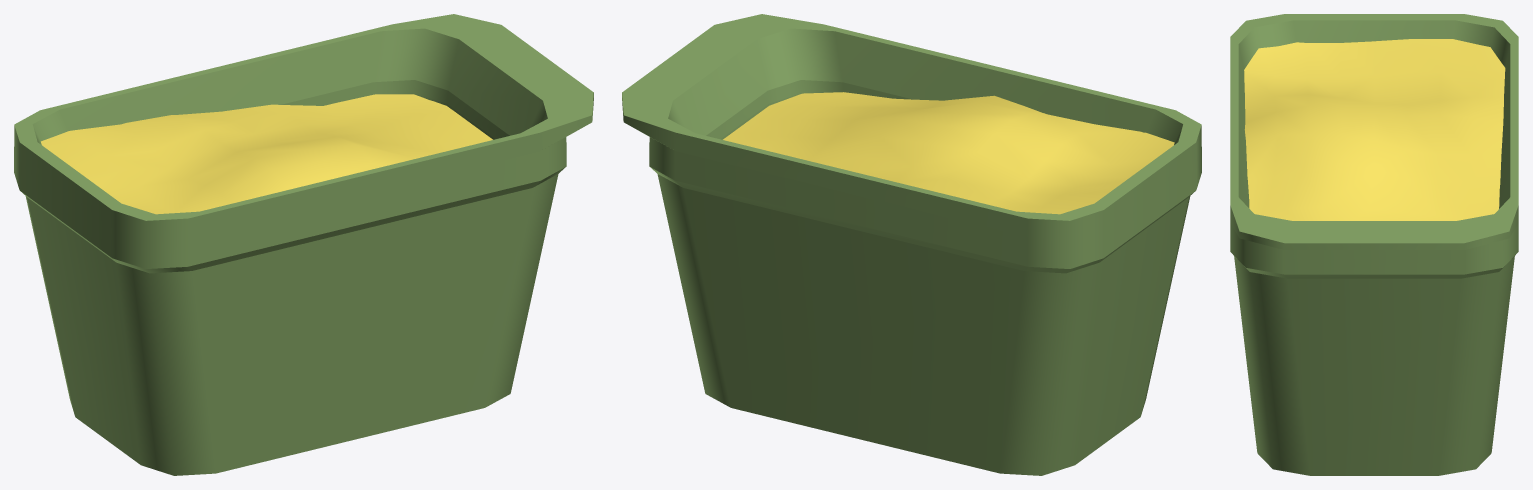
The model's file is Ice-cream-tub.fbx.
3 views of the same model, side by side, from view 1: azimuth 30°, elevation 25°; view 2: azimuth 150°, elevation 25°; view 3: azimuth 270°, elevation 25° (orthographic). The views are drawn at different scales.
Visible parts, largest first — view 1: pCube10, pPlane2; view 2: pCube10, pPlane2; view 3: pCube10, pPlane2.
Part boxes in pixels (x1,y1,x2,y2): pCube10: (14, 14, 593, 475); pPlane2: (41, 94, 492, 214); pCube10: (622, 14, 1201, 475); pPlane2: (723, 92, 1174, 214); pCube10: (1230, 14, 1518, 475); pPlane2: (1244, 39, 1505, 220).
Size of the model in its own units: 56.08 by 30.63 by 29.83.
